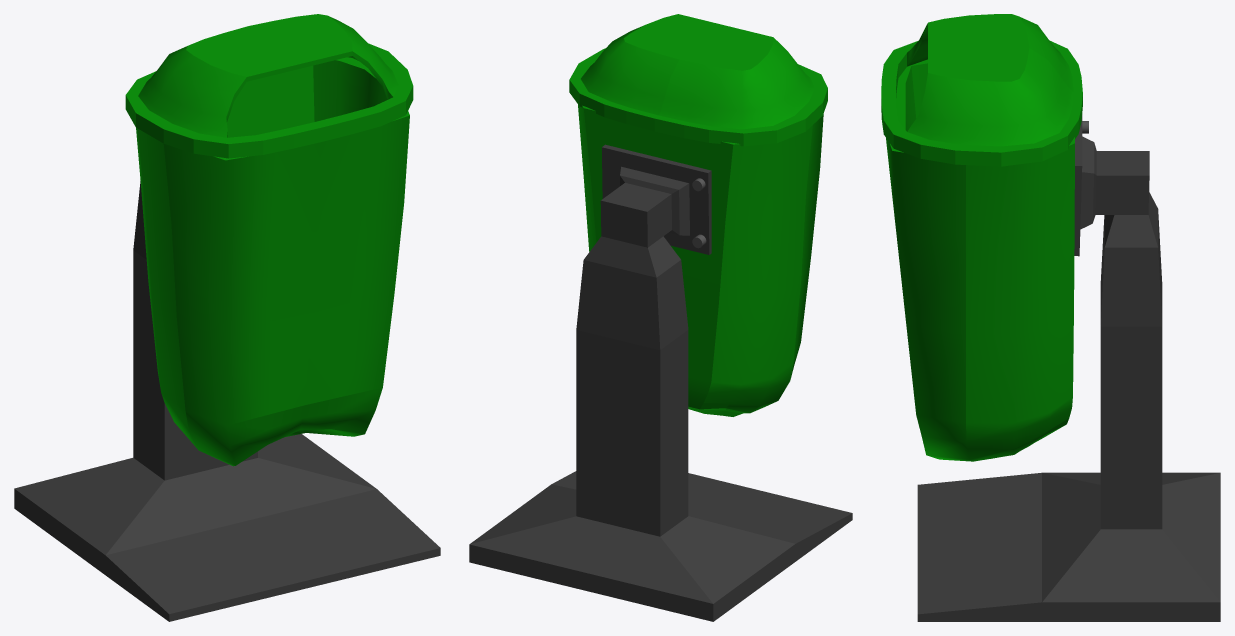
File: greenbin.fbx
3 renders of one model, left to right at view 1: azimuth 30°, elevation 25°; view 2: azimuth 150°, elevation 25°; view 3: azimuth 270°, elevation 25°, orthographic. The views are drawn at different scales.
Parts seen in each view (by area): view 1: polySurface3, pCube22, pCube23; view 2: pCube22, polySurface3, pCube23; view 3: pCube22, polySurface3, pCube23.
Boxes of the visible parts, box(x1,y1,x2,y2) form: polySurface3: box(136, 57, 409, 466); pCube22: box(14, 181, 440, 621); pCube23: box(125, 14, 413, 158); pCube22: box(469, 144, 852, 621); polySurface3: box(578, 104, 823, 416); pCube23: box(569, 14, 827, 146); pCube22: box(917, 115, 1220, 621); polySurface3: box(886, 59, 1074, 461); pCube23: box(881, 14, 1082, 166).
Size of the model in its own units: 3.08 by 5.65 by 3.41.
